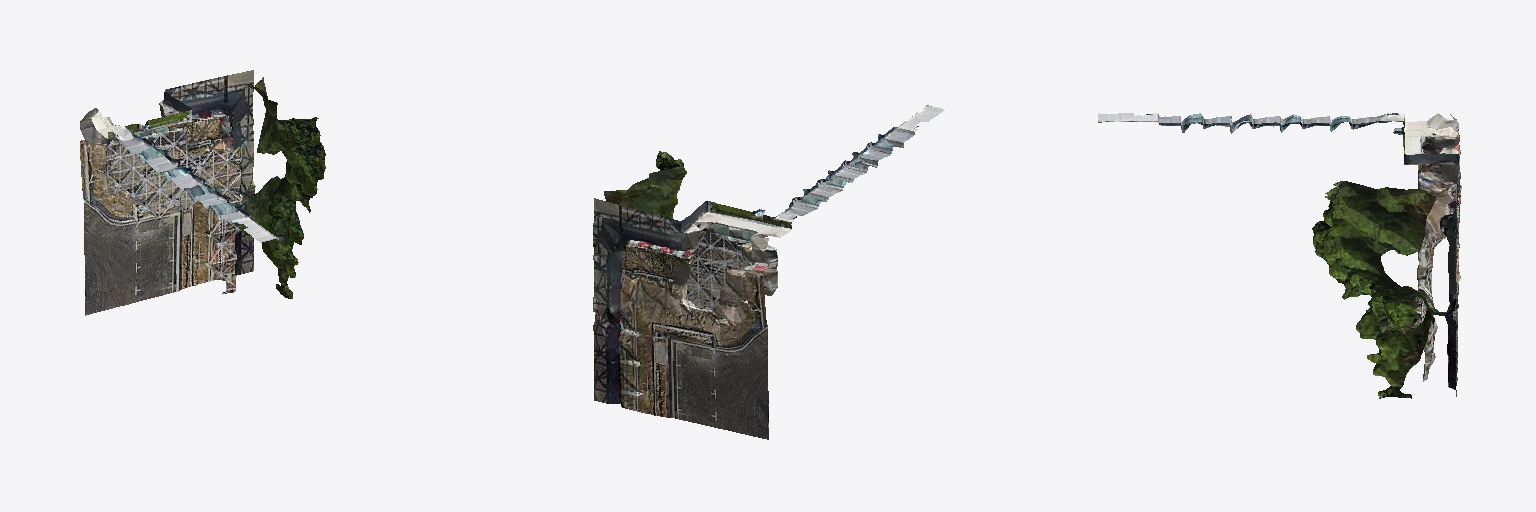
The picture shows the model from 3 angles: view 1: azimuth 30°, elevation 25°; view 2: azimuth 150°, elevation 25°; view 3: azimuth 270°, elevation 25°; orthographic projection.
Parts seen in each view (by area): view 1: obj_0; view 2: obj_0; view 3: obj_0.
Part boxes in pixels (bbox=[...]): obj_0: bbox=[80, 70, 325, 315]; obj_0: bbox=[593, 105, 944, 439]; obj_0: bbox=[1098, 113, 1461, 398].
Size of the model in its own units: 20.08 by 22.54 by 36.87.
1 materials, 1 textured.